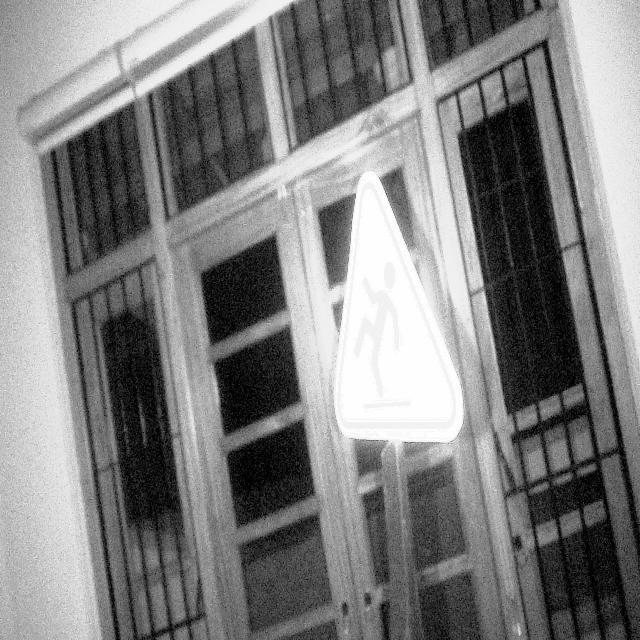Sign: (333, 170, 466, 445)
